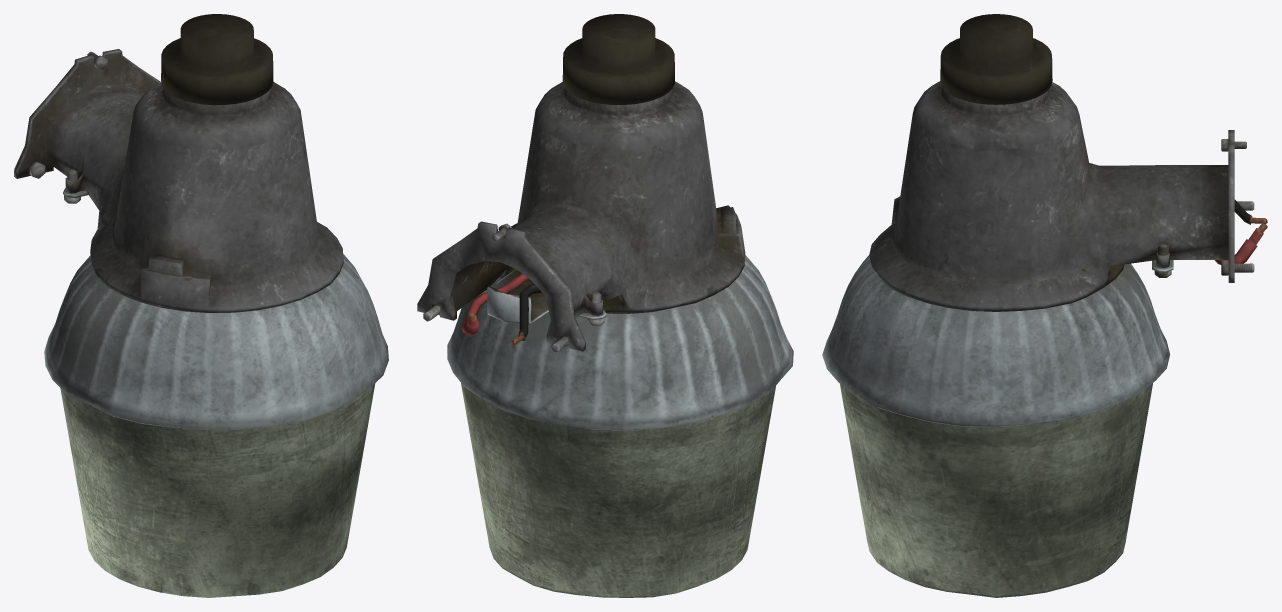
Rendered from investigation-industrial-security-light.glb.
The picture shows the model from 3 angles, left to right: view 1: azimuth 30°, elevation 25°; view 2: azimuth 150°, elevation 25°; view 3: azimuth 270°, elevation 25°; orthographic projection.
Parts seen in each view (by area): view 1: security_light, security_light_glass; view 2: security_light, security_light_glass; view 3: security_light, security_light_glass.
Part boxes in pixels (x1,y1,x2,y2): security_light: [14, 14, 388, 429]; security_light_glass: [60, 383, 375, 597]; security_light: [417, 14, 793, 430]; security_light_glass: [461, 383, 775, 597]; security_light: [822, 14, 1267, 426]; security_light_glass: [840, 383, 1152, 597].
Bounding box in the file's own units: 0.3232 × 0.531 × 0.4172.
Materials: 2 (2 with a texture image).
